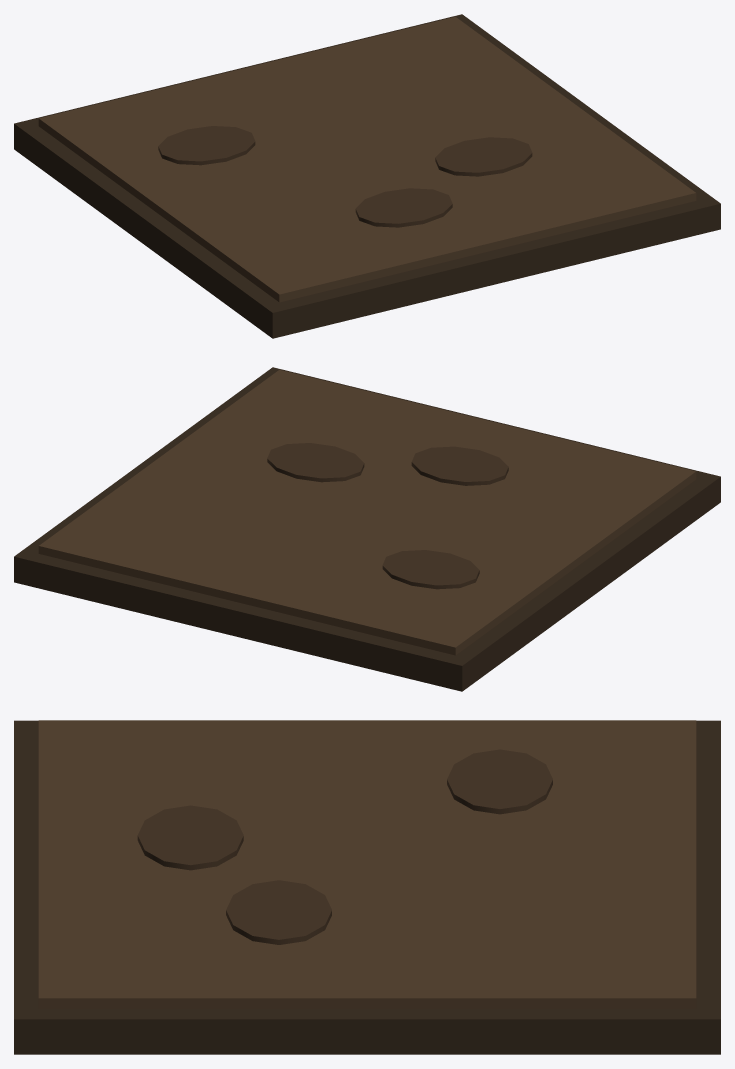
The model's file is k_mud.glb.
The picture shows the model from 3 angles, top to bottom: view 1: azimuth 30°, elevation 25°; view 2: azimuth 150°, elevation 25°; view 3: azimuth 270°, elevation 25°; orthographic projection. The views are drawn at different scales.
Visible parts, largest first — view 1: piece; view 2: piece; view 3: piece.
Boxes of the visible parts, left/top/right/bottom form: piece: left=14, top=14, right=720, bottom=338; piece: left=14, top=367, right=720, bottom=691; piece: left=14, top=720, right=720, bottom=1054.
Size of the model in its own units: 1 by 0.08 by 1.
